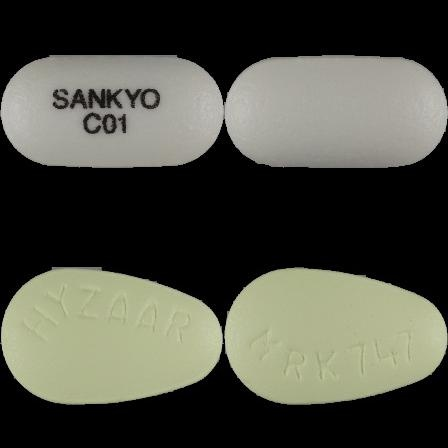21695-781: (0, 0, 224, 224)
